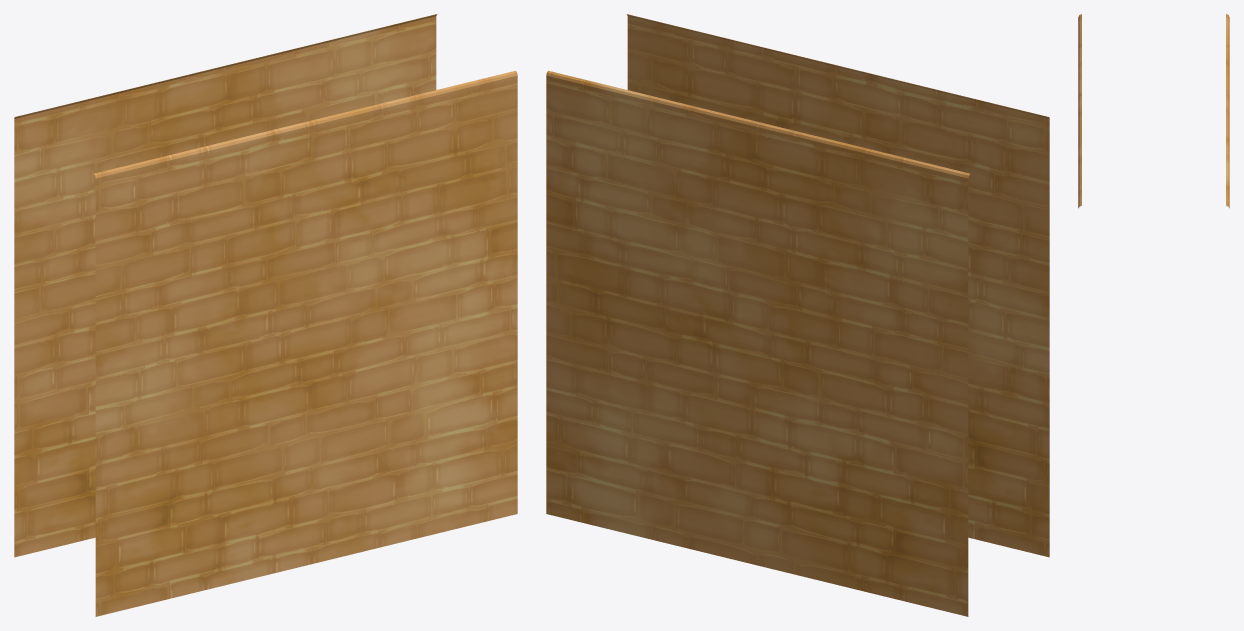
The model's file is SM_Env_Wall_Simple.fbx.
3 renders of one model, left to right at view 1: azimuth 30°, elevation 25°; view 2: azimuth 150°, elevation 25°; view 3: azimuth 270°, elevation 25°, orthographic. The views are drawn at different scales.
Parts seen in each view (by area): view 1: Wall_Simple; view 2: Wall_Simple; view 3: Wall_Simple.
Part boxes in pixels (bbox=[...]): Wall_Simple: bbox=[14, 14, 517, 616]; Wall_Simple: bbox=[546, 14, 1049, 616]; Wall_Simple: bbox=[1078, 14, 1229, 208].
Bounding box in the file's own units: 300 × 300 × 100.
1 material, 1 textured.
